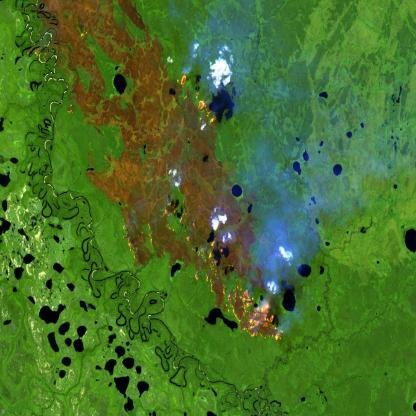fire: (34, 0, 284, 346)
